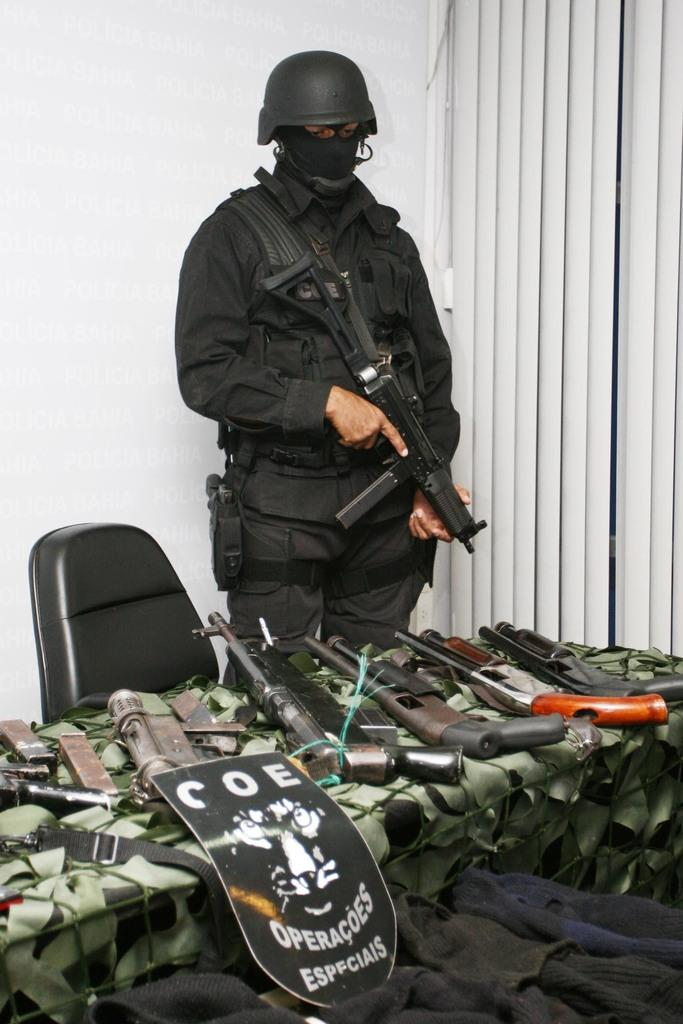Rifle: (293, 263, 487, 548)
